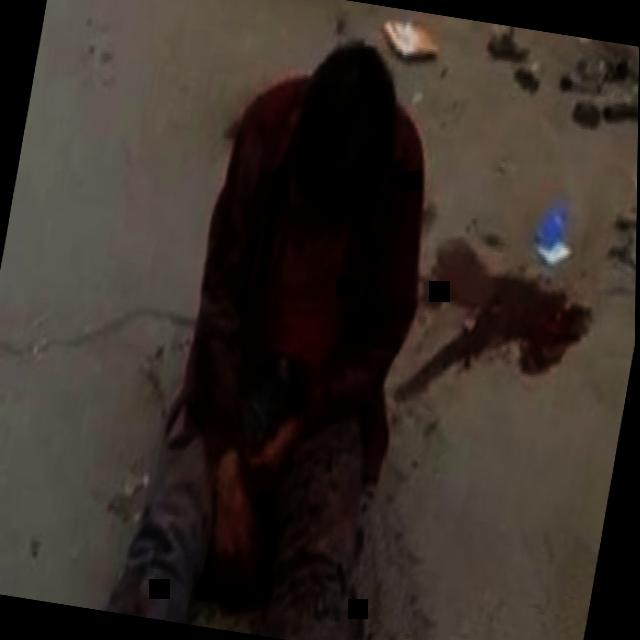Fall-Detected: (52, 0, 503, 640)
